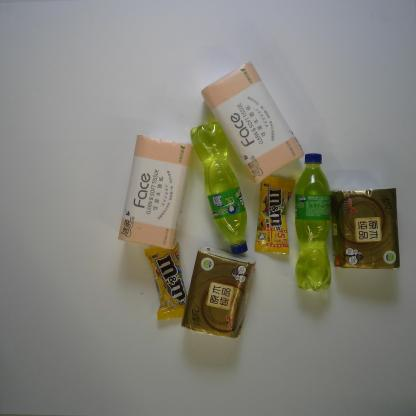Chocolate: (142, 239, 193, 322), (252, 174, 297, 255)
Drink: (189, 120, 250, 256), (292, 153, 334, 292)
Tissue: (200, 58, 305, 185), (115, 134, 196, 253), (179, 245, 256, 341), (330, 184, 401, 272)
